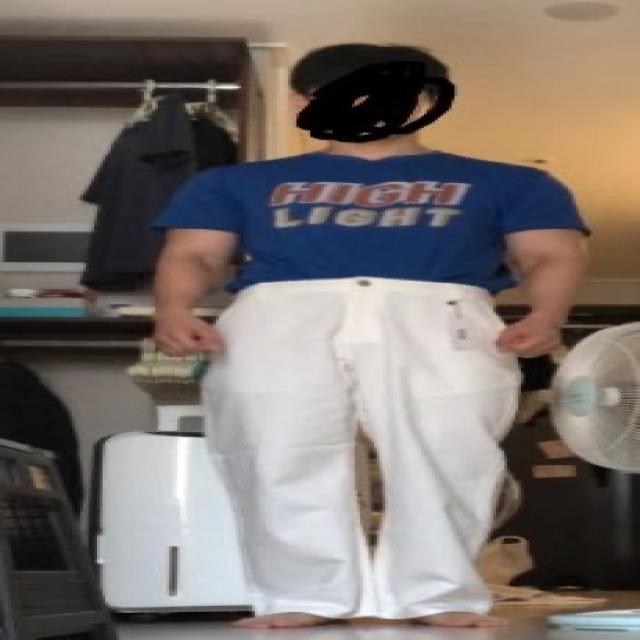cottonpants: (205, 273, 515, 619)
shortsleeve: (162, 147, 586, 292)
